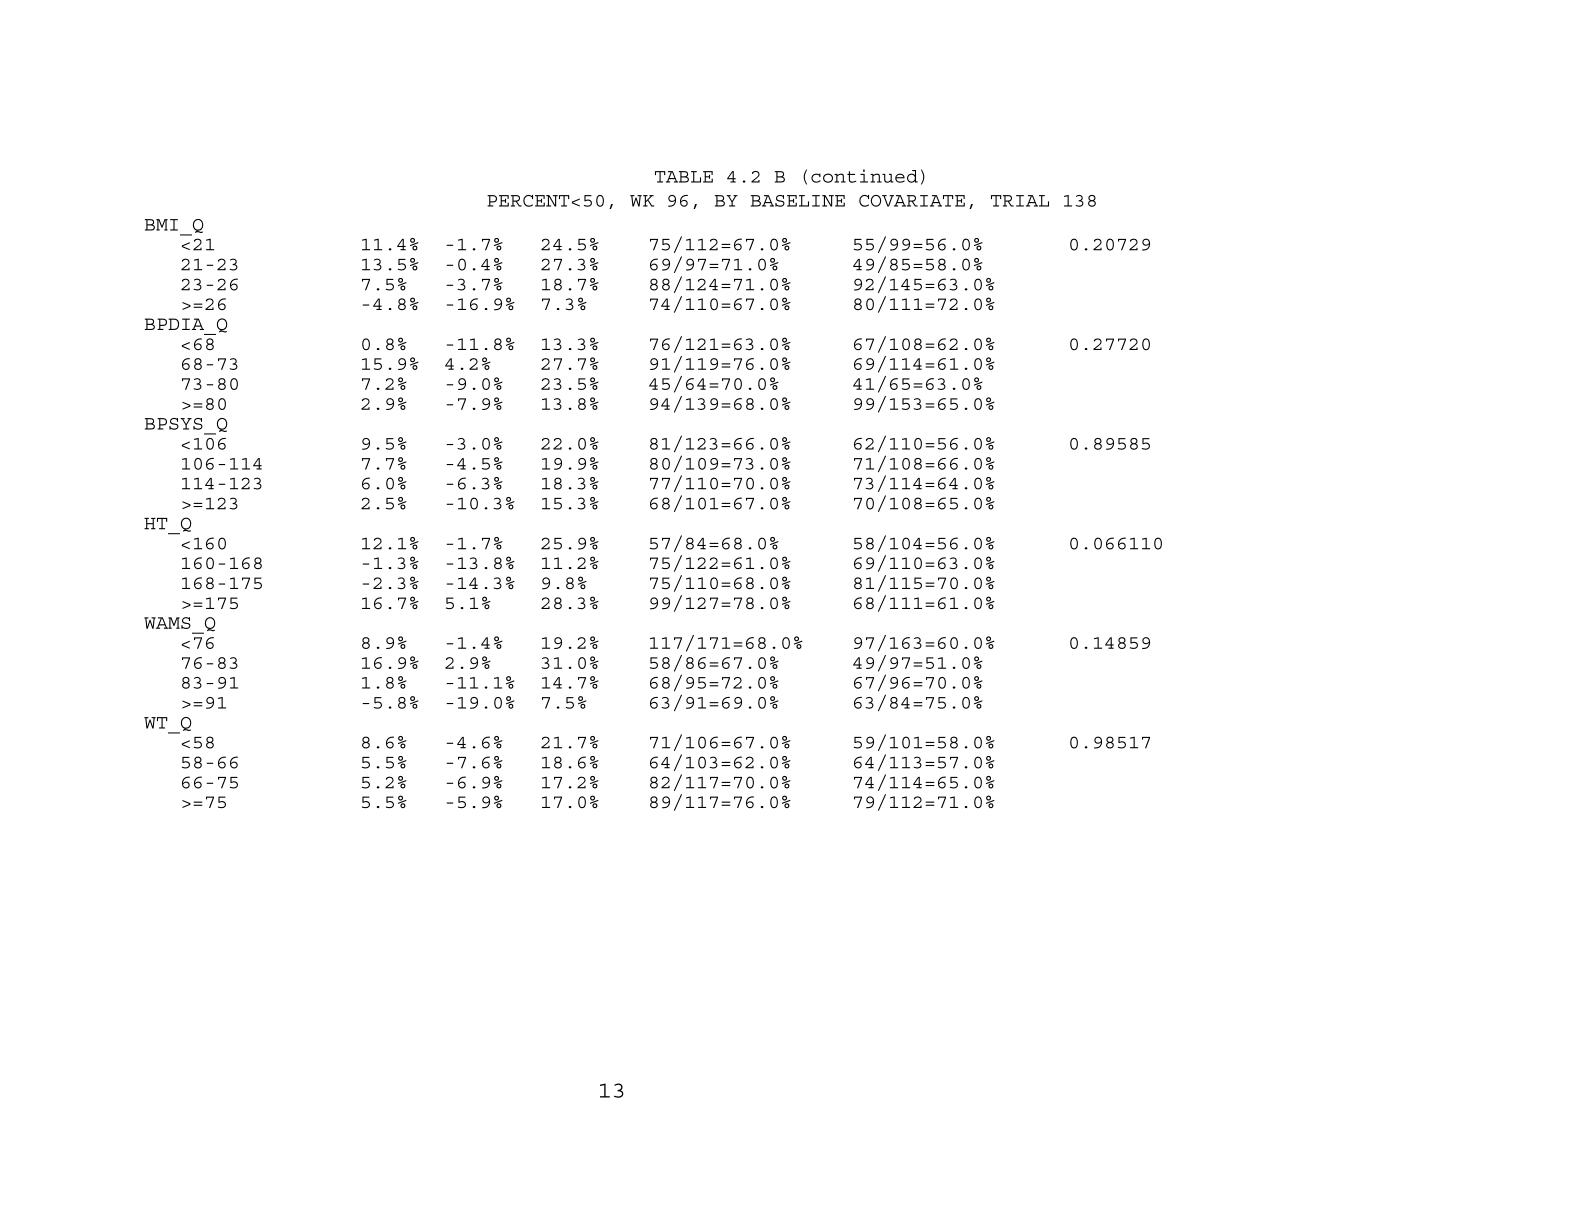nolines: (143, 213, 1155, 811)
